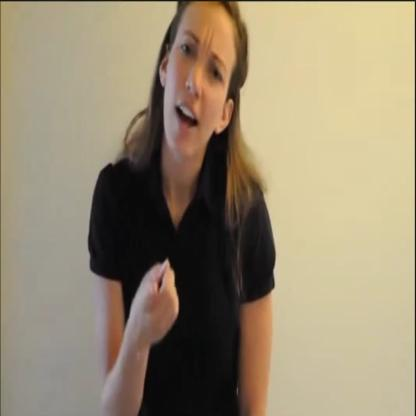HowAreYou: (126, 226, 208, 351)
